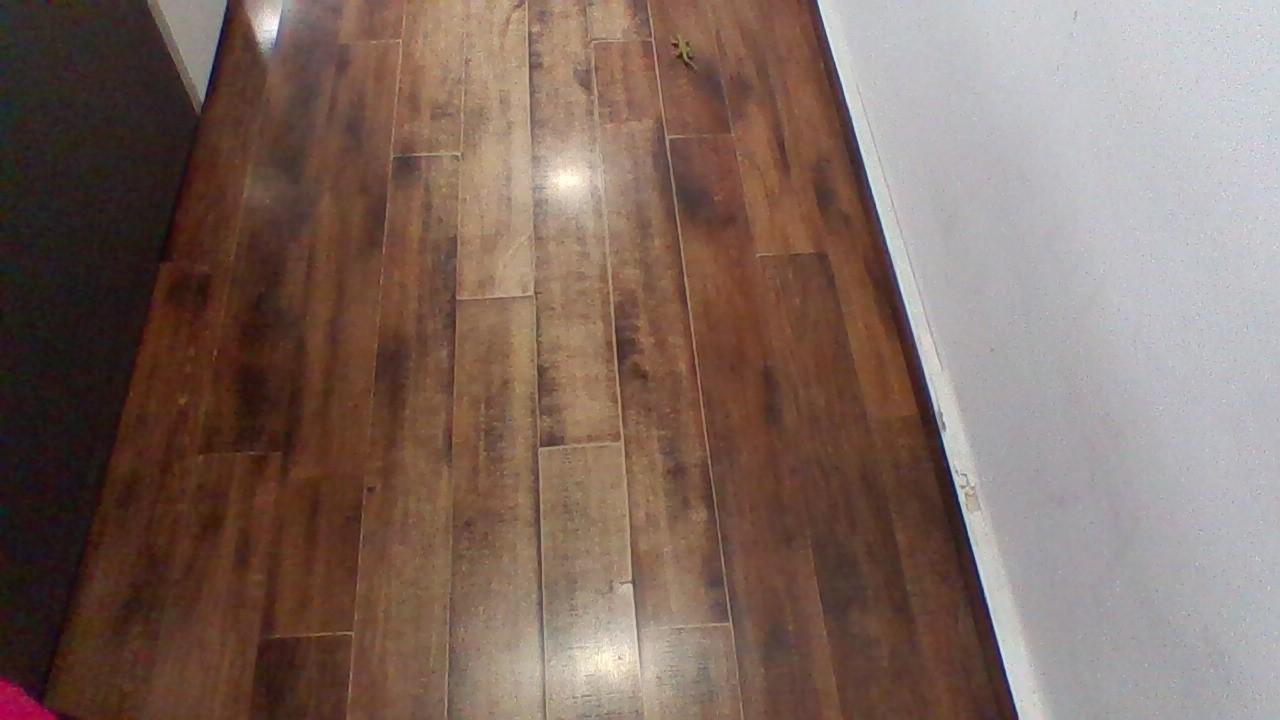lizard: (656, 15, 724, 83)
